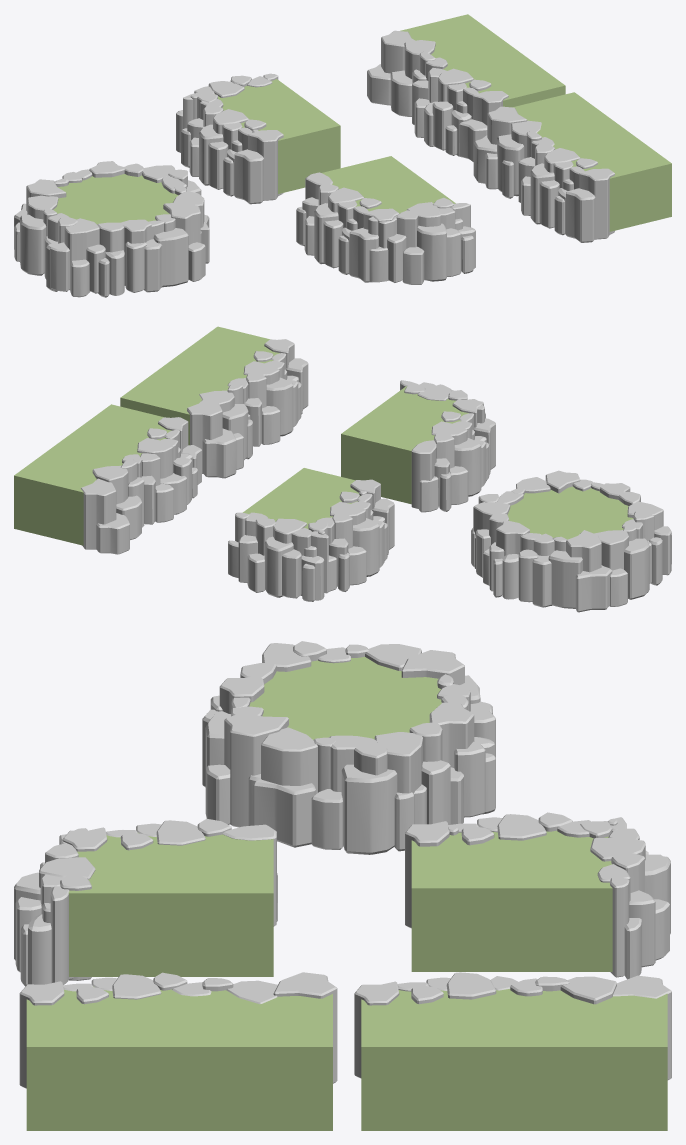
The model's file is Cliff final.fbx.
3 renders of one model, top to bottom at view 1: azimuth 30°, elevation 25°; view 2: azimuth 150°, elevation 25°; view 3: azimuth 270°, elevation 25°, orthographic. The views are drawn at different scales.
Parts seen in each view (by area): view 1: 5, 3, 2, 4, 1; view 2: 5, 4, 1, 3, 2; view 3: 5, 3, 4, 1, 2.
Part boxes in pixels (box(x1,y1,x2,y2)): 5: box(14, 161, 209, 297); 3: box(473, 92, 671, 242); 2: box(296, 156, 475, 284); 4: box(367, 14, 565, 161); 1: box(176, 73, 340, 204); 5: box(471, 470, 671, 612); 4: box(14, 404, 201, 554); 1: box(228, 468, 394, 601); 3: box(120, 326, 308, 478); 2: box(341, 380, 495, 512); 5: box(202, 641, 495, 854); 3: box(19, 972, 337, 1130); 4: box(354, 972, 671, 1130); 1: box(405, 812, 670, 979); 2: box(14, 818, 277, 986).
Size of the model in its own units: 16444 by 1945 by 11056.
